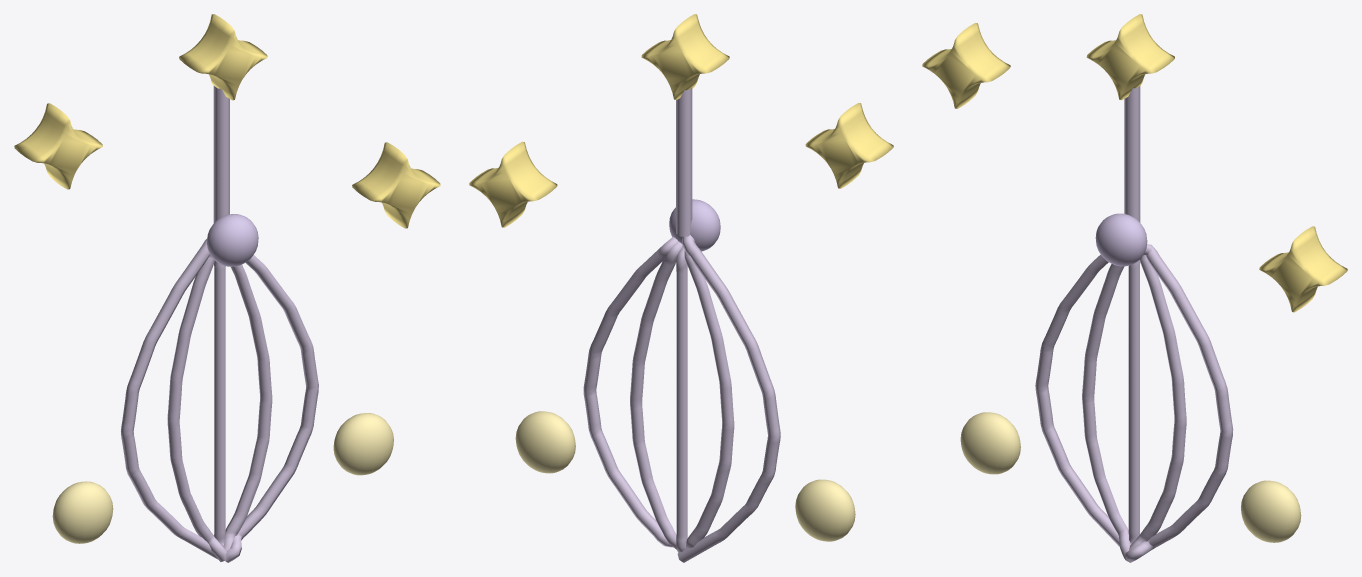
File: decor_4_star.glb
The picture shows the model from 3 angles, left to right: view 1: azimuth 30°, elevation 25°; view 2: azimuth 150°, elevation 25°; view 3: azimuth 330°, elevation 25°; orthographic projection.
Parts seen in each view (by area): view 1: decor_4_star; view 2: decor_4_star; view 3: decor_4_star.
Boxes of the visible parts, x1,y1,x2,y2 form: decor_4_star: [14, 14, 440, 562]; decor_4_star: [469, 14, 893, 562]; decor_4_star: [922, 14, 1347, 562].
Bounding box in the file's own units: 8.75 × 11.07 × 1.2.
